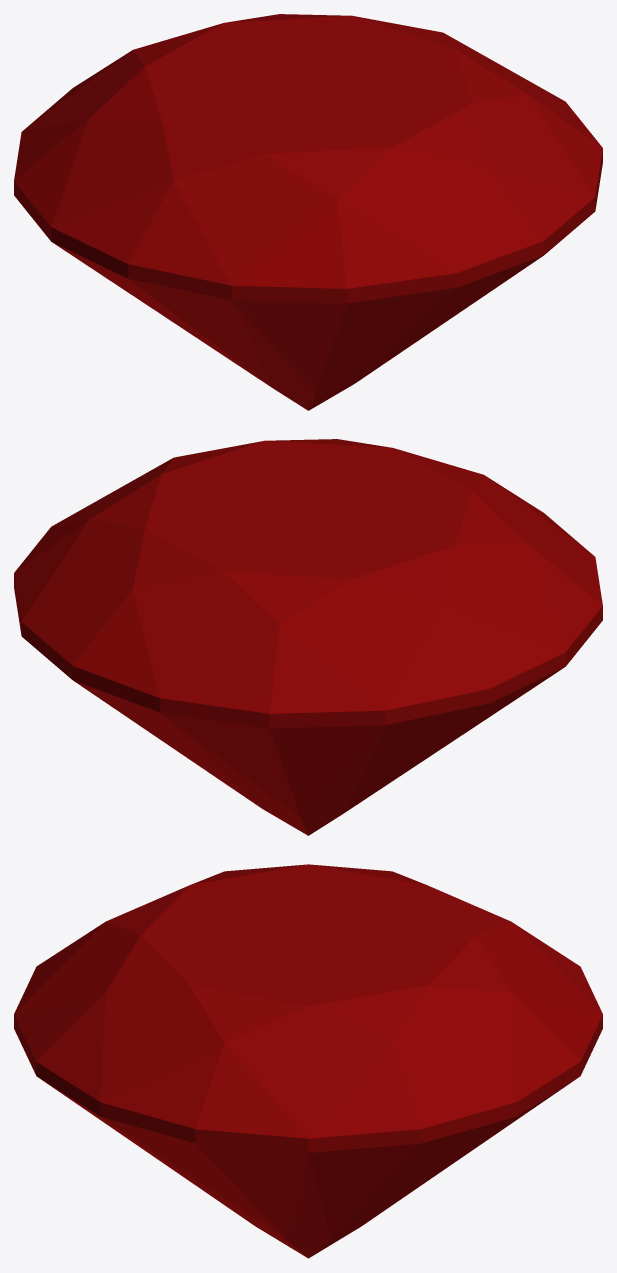
Rendered from dfk_gemstone_01.fbx.
3 renders of one model, top to bottom at view 1: azimuth 30°, elevation 25°; view 2: azimuth 150°, elevation 25°; view 3: azimuth 270°, elevation 25°, orthographic.
Visible parts, largest first — view 1: Gemstone; view 2: Gemstone; view 3: Gemstone.
Part boxes in pixels (x1,y1,x2,y2): Gemstone: [14, 14, 602, 410]; Gemstone: [14, 439, 602, 835]; Gemstone: [14, 864, 602, 1258].
Size of the model in its own units: 0.2356 by 0.1427 by 0.2356.
